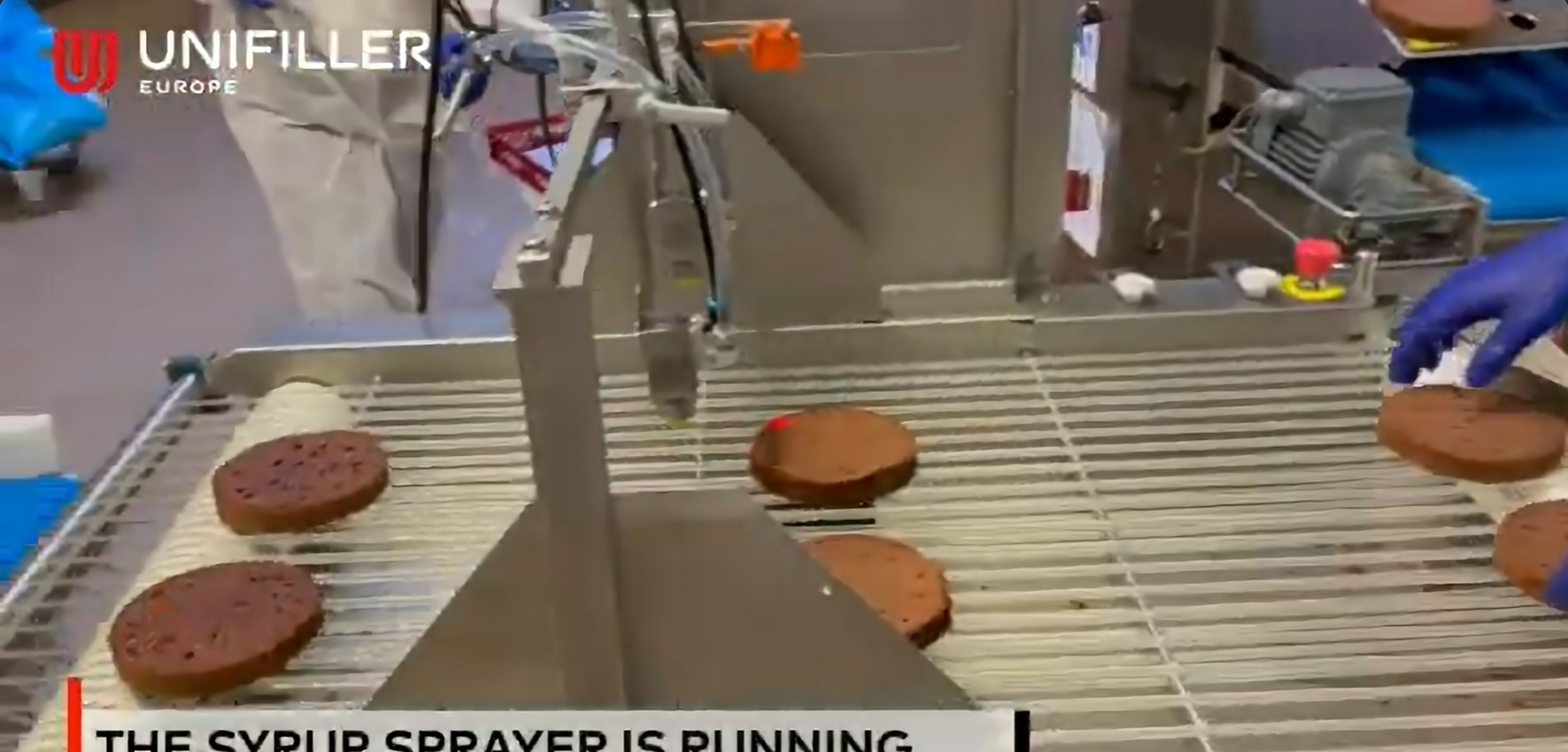Chocolate Cake: (106, 562, 323, 695), (212, 429, 388, 533), (1375, 380, 1565, 476), (803, 528, 949, 645), (754, 406, 917, 495), (1490, 496, 1568, 602)
